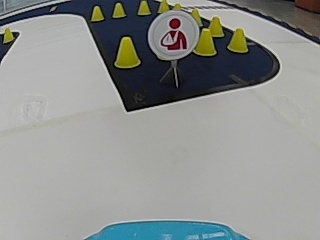cone: (114, 36, 140, 68), (193, 29, 217, 55), (227, 28, 248, 54), (209, 16, 223, 36), (112, 2, 126, 17), (91, 6, 104, 21), (137, 1, 150, 15), (3, 28, 14, 43)
patient: (155, 13, 193, 59)
